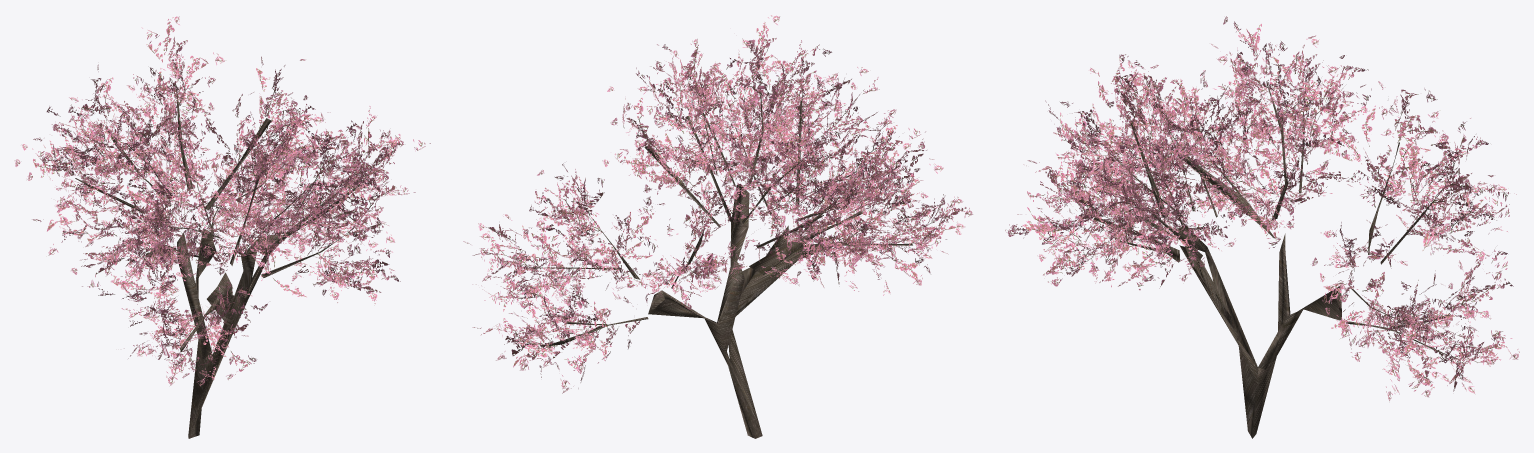
The model's file is cargo_cherry_far.glb.
3 renders of one model, left to right at view 1: azimuth 30°, elevation 25°; view 2: azimuth 150°, elevation 25°; view 3: azimuth 270°, elevation 25°, orthographic. The views are drawn at different scales.
Parts seen in each view (by area): view 1: KB3D_SHG_VegCherryBlossomTree_A_Main; view 2: KB3D_SHG_VegCherryBlossomTree_A_Main; view 3: KB3D_SHG_VegCherryBlossomTree_A_Main.
Boxes of the visible parts, x1=… form: KB3D_SHG_VegCherryBlossomTree_A_Main: x1=14, y1=16, x2=430, y2=438; KB3D_SHG_VegCherryBlossomTree_A_Main: x1=463, y1=15, x2=972, y2=438; KB3D_SHG_VegCherryBlossomTree_A_Main: x1=1005, y1=16, x2=1519, y2=438.
Bounding box in the file's own units: 8.19 × 7.54 × 9.19.
Materials: 2 (2 with a texture image).
